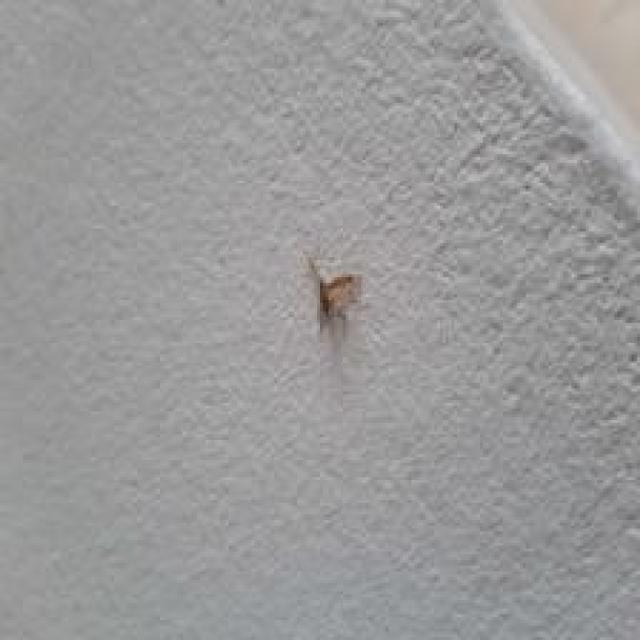Culex: (303, 253, 363, 330)
